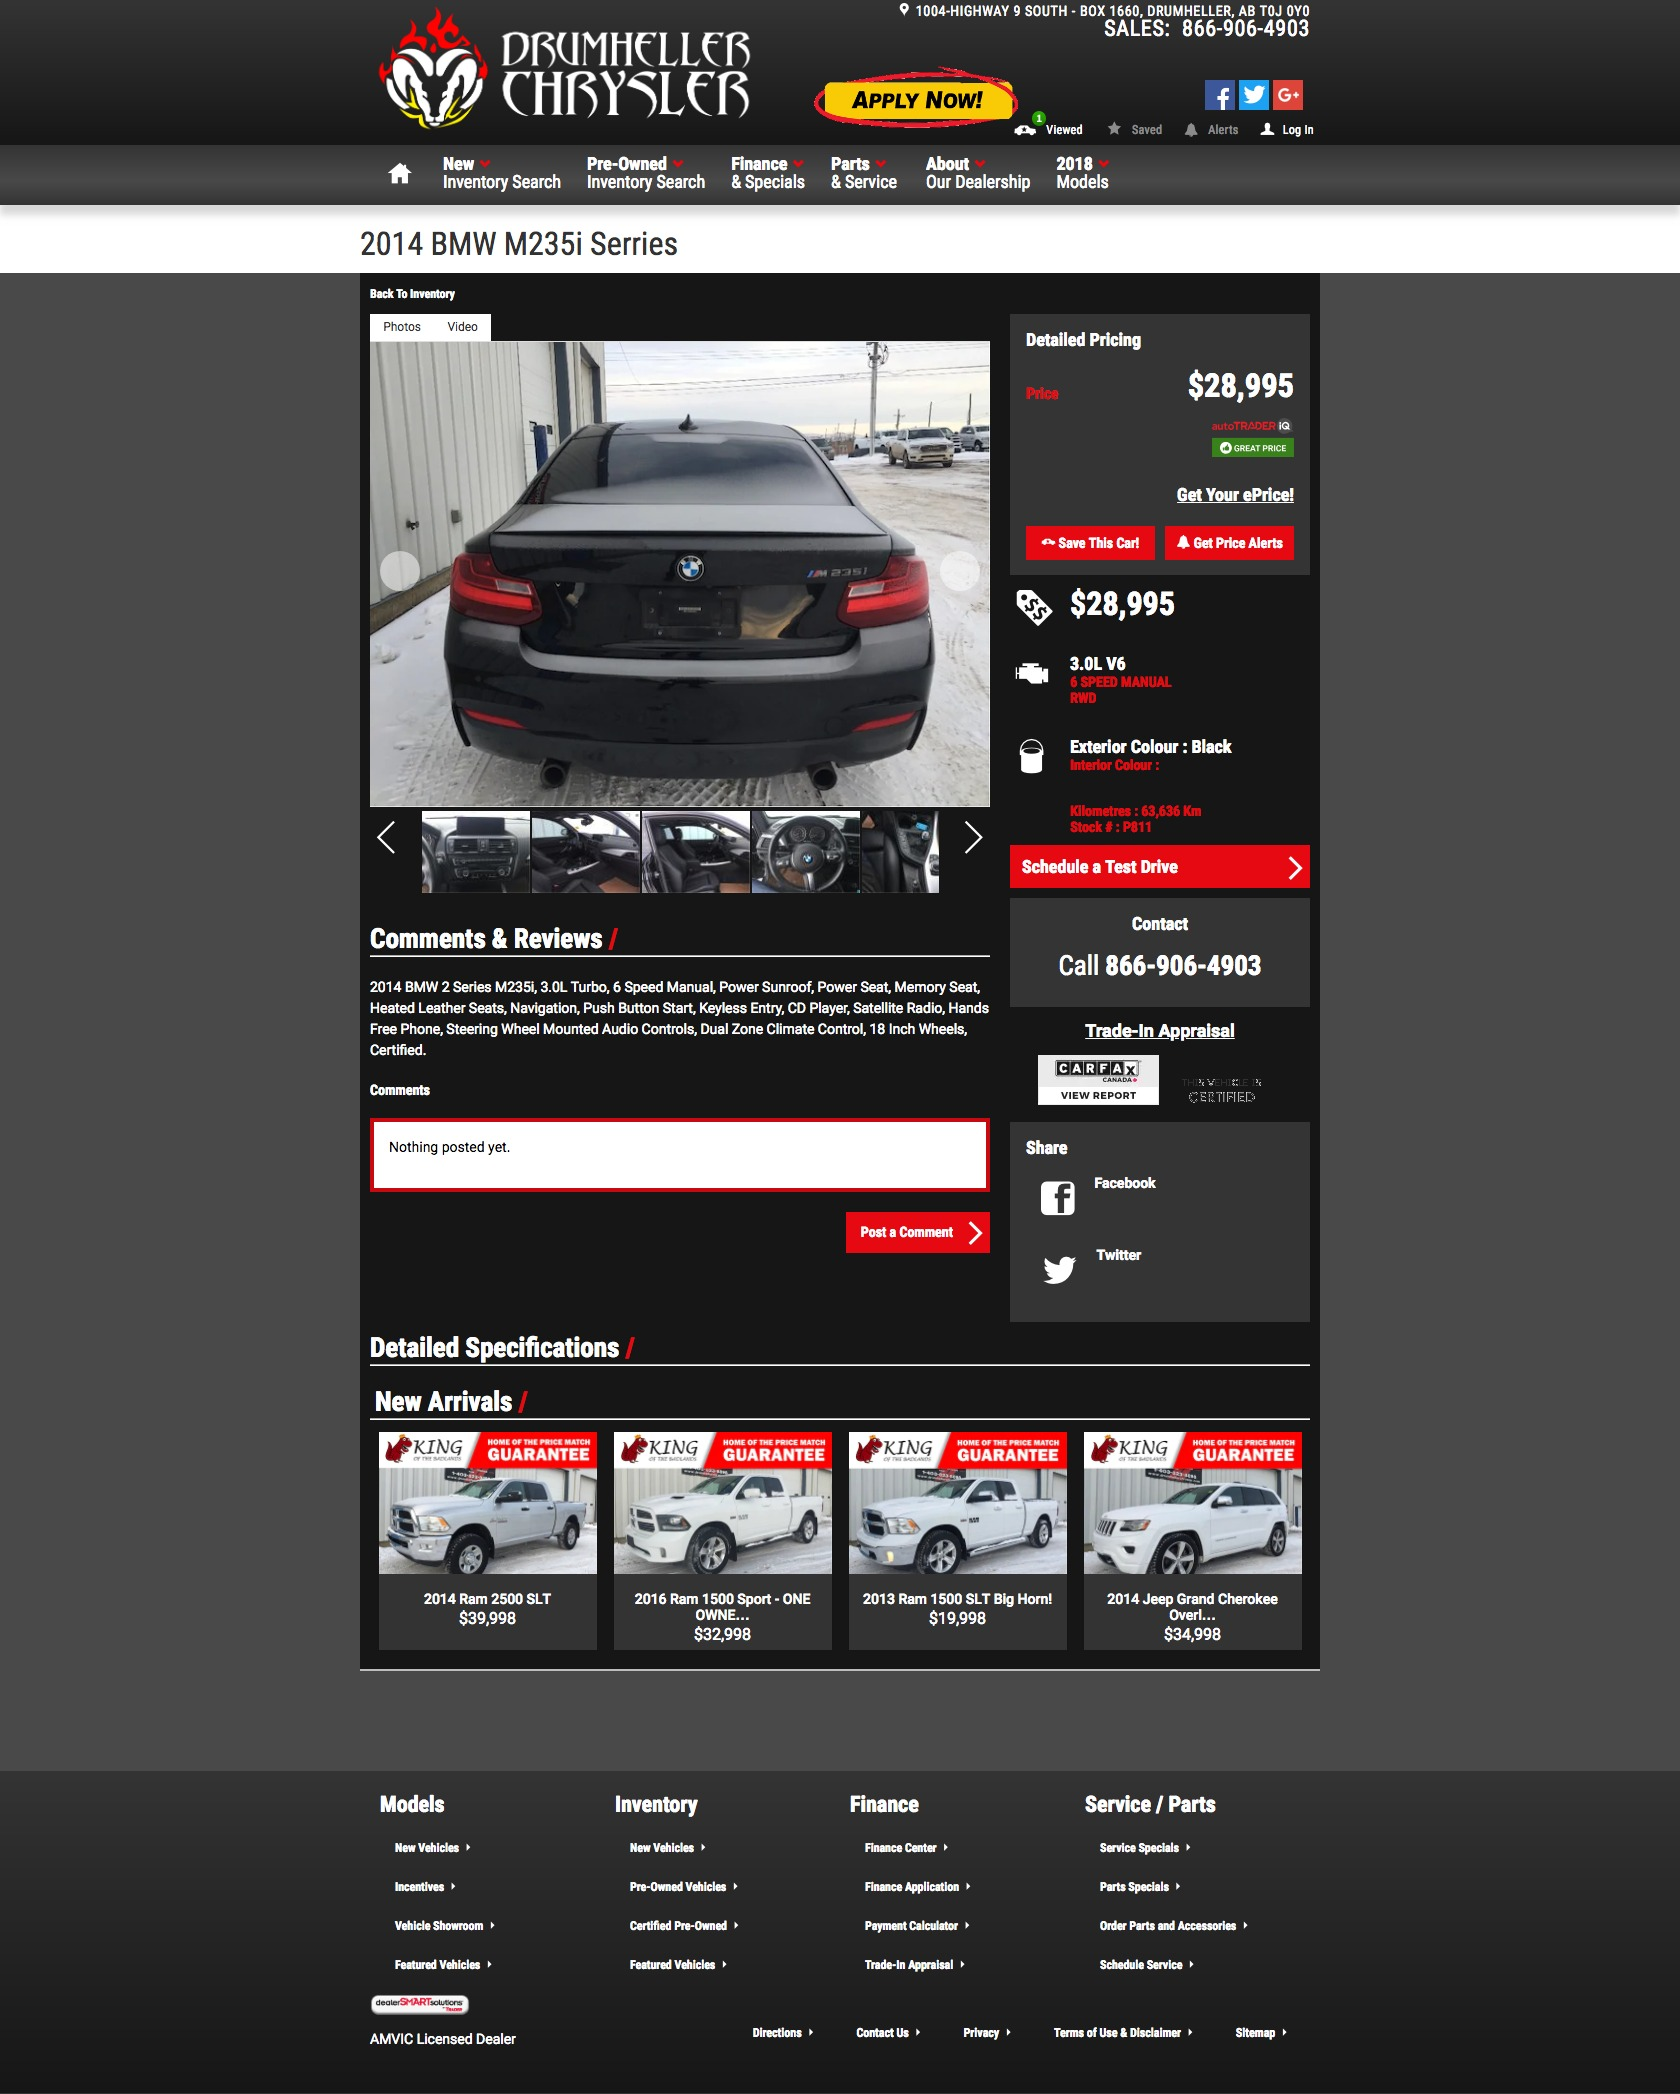car: (960, 819, 986, 857)
